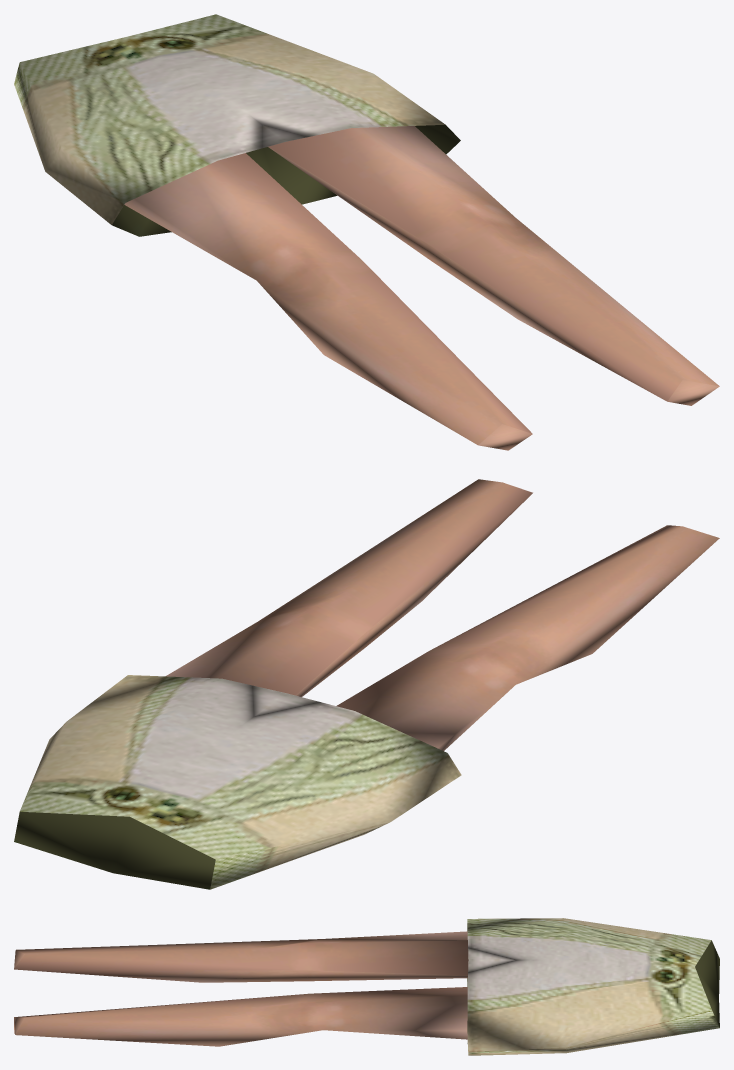
Rendered from f_Legs1.glb.
3 views of the same model, one above another, from view 1: azimuth 30°, elevation 25°; view 2: azimuth 150°, elevation 25°; view 3: azimuth 270°, elevation 25° (orthographic). The views are drawn at different scales.
Parts seen in each view (by area): view 1: Legs1; view 2: Legs1; view 3: Legs1.
Part boxes in pixels (x1,y1,x2,y2): Legs1: (14,14,719,450); Legs1: (14,479,719,889); Legs1: (14,918,719,1055).
Bounding box in the file's own units: 22.68 × 4.11 × 54.85.
Materials: 1 (1 with a texture image).
